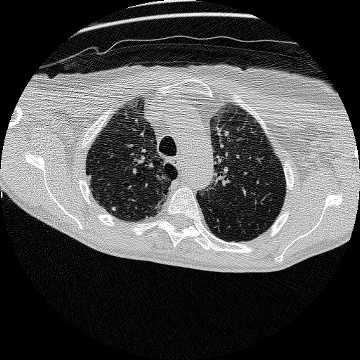PN: (112, 207, 116, 211)
